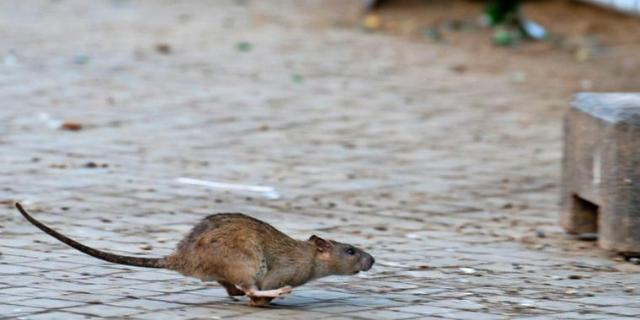rat: (8, 191, 386, 311)
